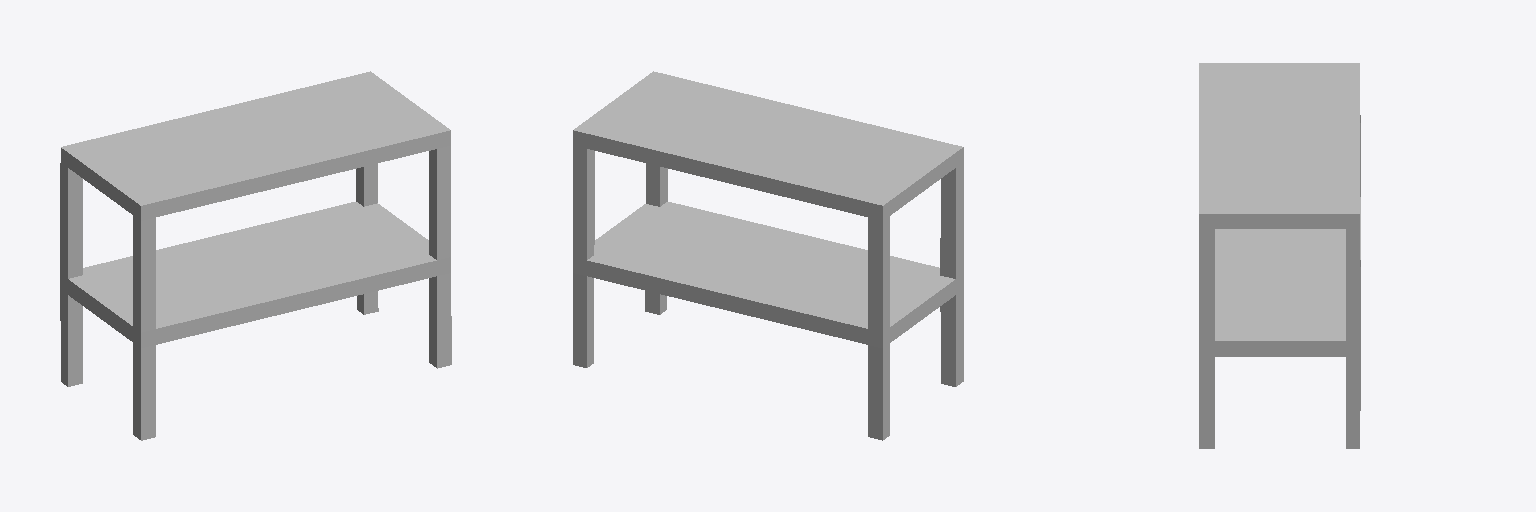
File: Kitchen_new_rack.obj
3 renders of one model, left to right at view 1: azimuth 30°, elevation 25°; view 2: azimuth 150°, elevation 25°; view 3: azimuth 270°, elevation 25°, orthographic.
Visible parts, largest first — view 1: pCube11; view 2: pCube11; view 3: pCube11.
Boxes of the visible parts, x1=… form: pCube11: x1=60, y1=71, x2=451, y2=440; pCube11: x1=573, y1=71, x2=963, y2=440; pCube11: x1=1199, y1=63, x2=1360, y2=448.
Bounding box in the file's own units: 30.53 × 22.05 × 13.74.